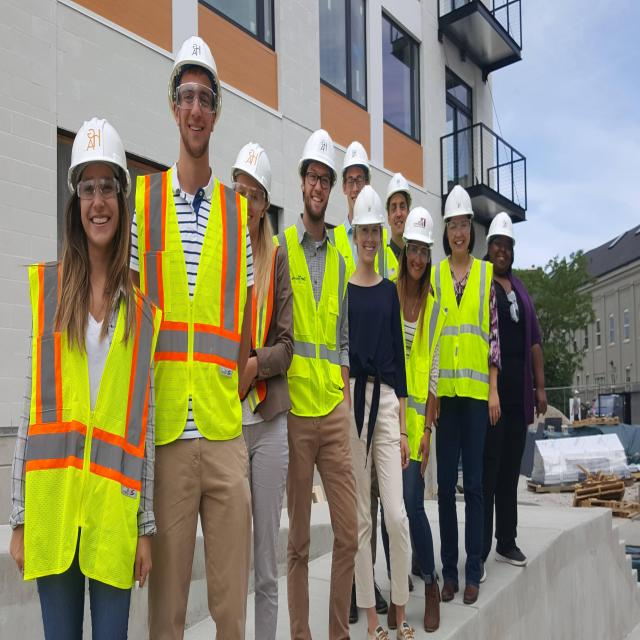Reflective-Jacket: (19, 261, 161, 586), (136, 167, 253, 449), (277, 225, 350, 414), (425, 257, 495, 401)
Safety-Helmet: (66, 110, 132, 184), (166, 33, 225, 93), (232, 137, 274, 199), (296, 126, 338, 179), (402, 202, 437, 248), (442, 180, 476, 223), (340, 136, 374, 177), (353, 185, 384, 229), (485, 207, 519, 246), (385, 169, 414, 207)
